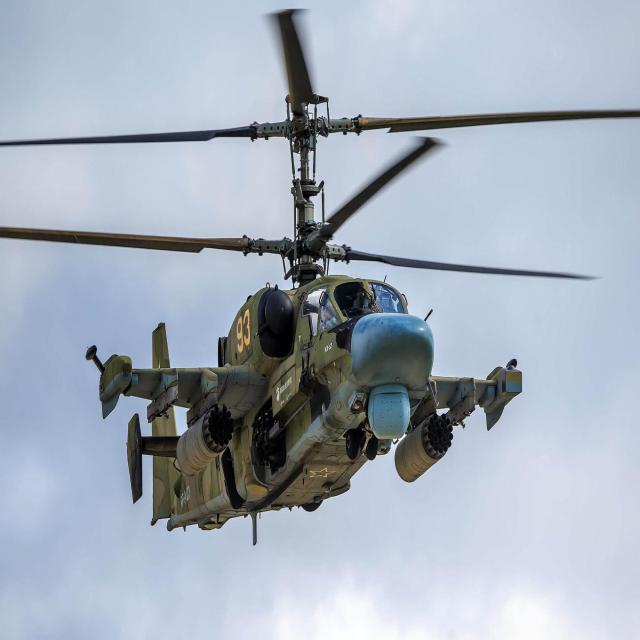MIL_HELO: (0, 5, 620, 552)
